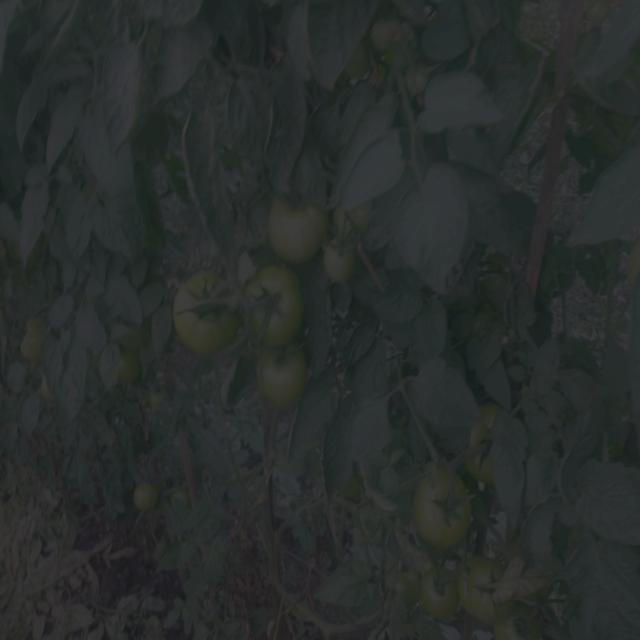tomato: (424, 555, 546, 640), (167, 266, 237, 363), (248, 273, 315, 347), (470, 394, 518, 482), (409, 468, 462, 542), (265, 198, 322, 266), (257, 353, 319, 408), (101, 325, 153, 388), (17, 313, 60, 361), (325, 246, 366, 290), (337, 193, 378, 235), (26, 373, 64, 412), (402, 62, 431, 105), (370, 15, 400, 55), (343, 40, 368, 84), (136, 483, 154, 510), (172, 486, 193, 509)
